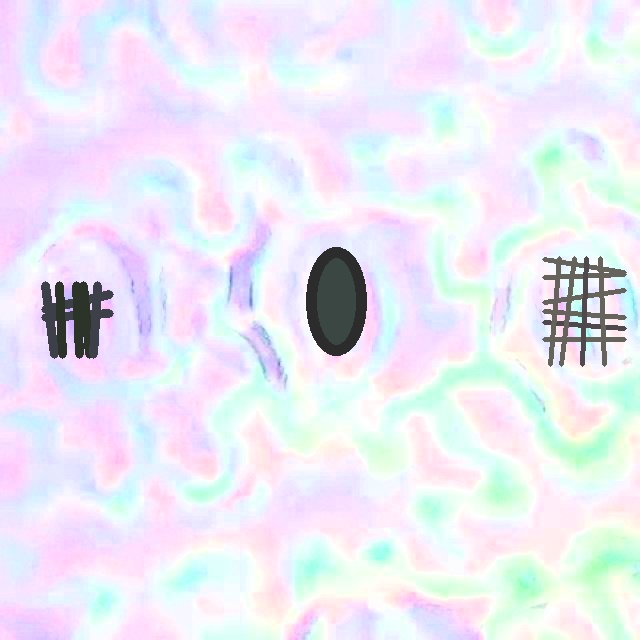open: (543, 257, 626, 365), (306, 247, 365, 356), (41, 281, 113, 358)
